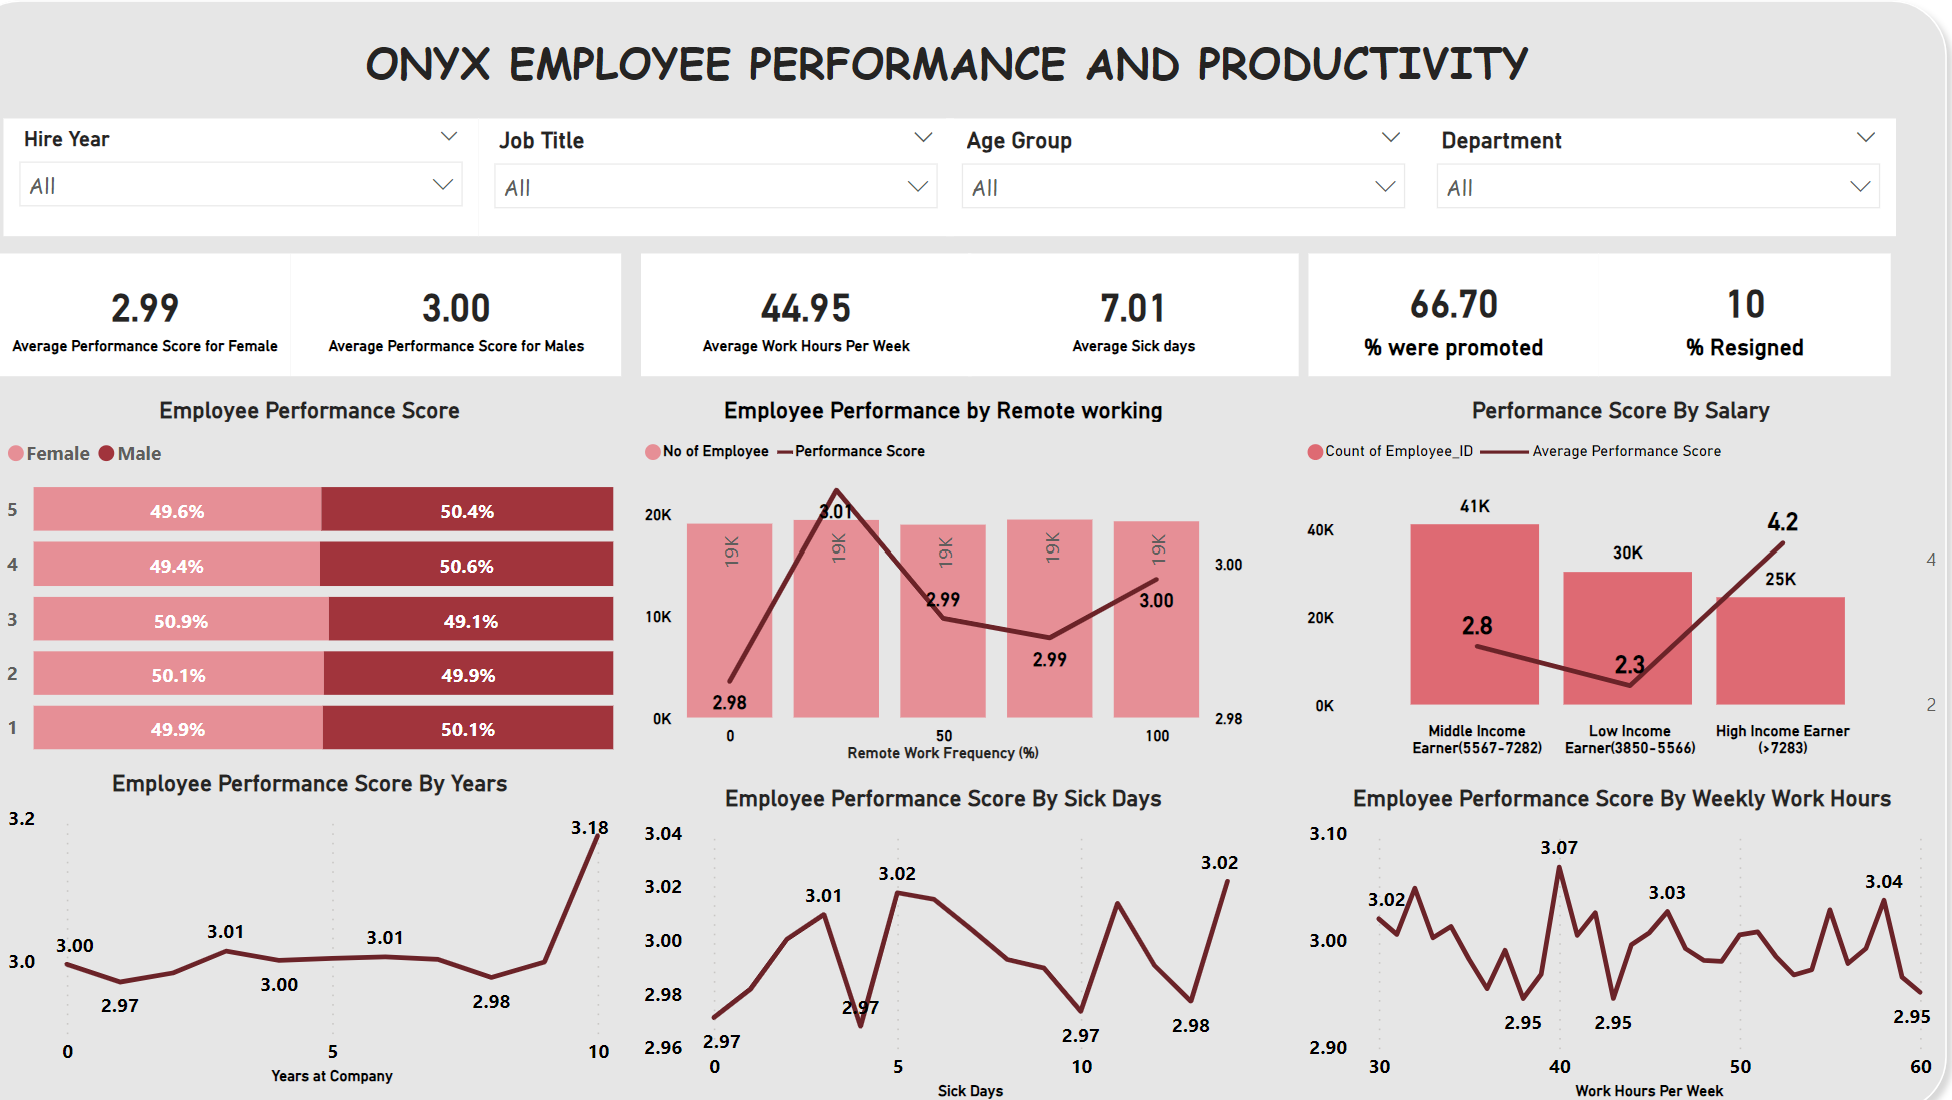

The dashboard page shown, as its layout file describes it:
{"tool":"powerbi","page":{"name":"Employee_Performance_rating","canvas":[1280,720],"ordinal":0},"visuals":[{"type":"shape","box":[9.4,0,1271.2,720.6],"z":0},{"type":"textbox","box":[42,14.2,1193.7,69.6],"z":1},{"type":"slicer","fields":{"Values":["hr_analytics_view.Hire_Date.Variation.Date Hierarchy.Year"]},"box":[42.7,83.8,300.4,74.3],"z":2},{"type":"slicer","fields":{"Values":["hr_analytics_view.Job_Title"]},"box":[343.1,83.8,300.4,74.3],"z":3},{"type":"slicer","fields":{"Values":["hr_analytics_view.Age_Group"]},"box":[638.7,83.8,300.4,74.3],"z":4},{"type":"slicer","fields":{"Values":["hr_analytics_view.Department"]},"box":[939.1,83.8,300.4,74.3],"z":5},{"type":"hundredPercentStackedBarChart","title":"Employee Performance Score","fields":{"Category":["hr_analytics_view.Performance_Score"],"Series":["hr_analytics_view.Gender"],"Y":["CountNonNull(hr_analytics_view.Employee_ID)"]},"box":[39.5,259.3,393.7,235.6],"z":6},{"type":"card","fields":{"Values":["Measures_Table.AvgPerformanceFemale"]},"box":[39.5,169.2,185,77.5],"z":7},{"type":"card","fields":{"Values":["Measures_Table.AvgPerformanceMale"]},"box":[224.5,169.2,208.7,77.5],"z":8},{"type":"lineChart","title":"Employee Performance Score By Years","fields":{"Category":["hr_analytics_view.Years_At_Company"],"Y":["Measures_Table.AvgPerformance"]},"box":[39.5,494.9,393.7,204],"z":9},{"type":"lineClusteredColumnComboChart","title":"Employee Performance by Remote working","fields":{"Category":["hr_analytics_view.Remote_Work_Frequency"],"Y":["CountNonNull(hr_analytics_view.Employee_ID)"],"Y2":["Avg(hr_analytics_view.Performance_Score)"]},"box":[442.7,259.3,388.9,235.6],"z":11},{"type":"lineChart","title":"Employee Performance Score By Sick Days","fields":{"Y":["Measures_Table.AvgPerformance"],"Category":["hr_analytics_view.Sick_Days"]},"box":[442.7,504.4,388.9,204],"z":12},{"type":"card","fields":{"Values":["Measures_Table.% Promoted Employees"]},"box":[868,169.2,183.4,77.5],"z":13},{"type":"card","fields":{"Values":["Measures_Table.%Leavers"]},"box":[1051.4,169.2,185,77.5],"z":14},{"type":"actionButton","box":[0,0,100,40],"z":15},{"type":"lineChart","title":"Employee Performance Score By Weekly Work Hours","fields":{"Y":["Measures_Table.AvgPerformance"],"Category":["hr_analytics_view.Work_Hours_Per_Week"]},"box":[863.2,504.4,406.3,204],"z":16},{"type":"card","fields":{"Values":["Measures_Table.Average Work Hours Per Week"]},"box":[445.9,169.2,208.7,77.5],"z":17},{"type":"card","fields":{"Values":["Measures_Table.Average Sick days"]},"box":[653,169.2,208.7,77.5],"z":18},{"type":"lineClusteredColumnComboChart","title":"Performance Score By Salary","fields":{"Category":["hr_analytics_view.Monthly_Salary_Level"],"Y":["CountNonNull(hr_analytics_view.Employee_ID)"],"Y2":["Measures_Table.AvgPerformance"]},"box":[861.7,259.3,407.9,235.6],"z":19}]}

Visuals, with their boxes in screenshot pixels (x1, y1, x2, y2), scaled from the page's 1280x720 canvas onto the 1952x1100 screenshot:
shape: detection(14, 0, 1951, 1099)
textbox: detection(64, 22, 1884, 128)
slicer - hr_analytics_view.Hire_Date.Variation.Date Hierarchy.Year: detection(65, 128, 523, 242)
slicer - hr_analytics_view.Job_Title: detection(523, 128, 981, 242)
slicer - hr_analytics_view.Age_Group: detection(974, 128, 1432, 242)
slicer - hr_analytics_view.Department: detection(1432, 128, 1890, 242)
"Employee Performance Score" hundredPercentStackedBarChart: detection(60, 396, 661, 756)
card - Measures_Table.AvgPerformanceFemale: detection(60, 258, 342, 377)
card - Measures_Table.AvgPerformanceMale: detection(342, 258, 661, 377)
"Employee Performance Score By Years" lineChart: detection(60, 756, 661, 1068)
"Employee Performance by Remote working" lineClusteredColumnComboChart: detection(675, 396, 1268, 756)
"Employee Performance Score By Sick Days" lineChart: detection(675, 771, 1268, 1082)
card - Measures_Table.% Promoted Employees: detection(1324, 258, 1603, 377)
card - Measures_Table.%Leavers: detection(1603, 258, 1886, 377)
actionButton: detection(0, 0, 152, 61)
"Employee Performance Score By Weekly Work Hours" lineChart: detection(1316, 771, 1936, 1082)
card - Measures_Table.Average Work Hours Per Week: detection(680, 258, 998, 377)
card - Measures_Table.Average Sick days: detection(996, 258, 1314, 377)
"Performance Score By Salary" lineClusteredColumnComboChart: detection(1314, 396, 1936, 756)
